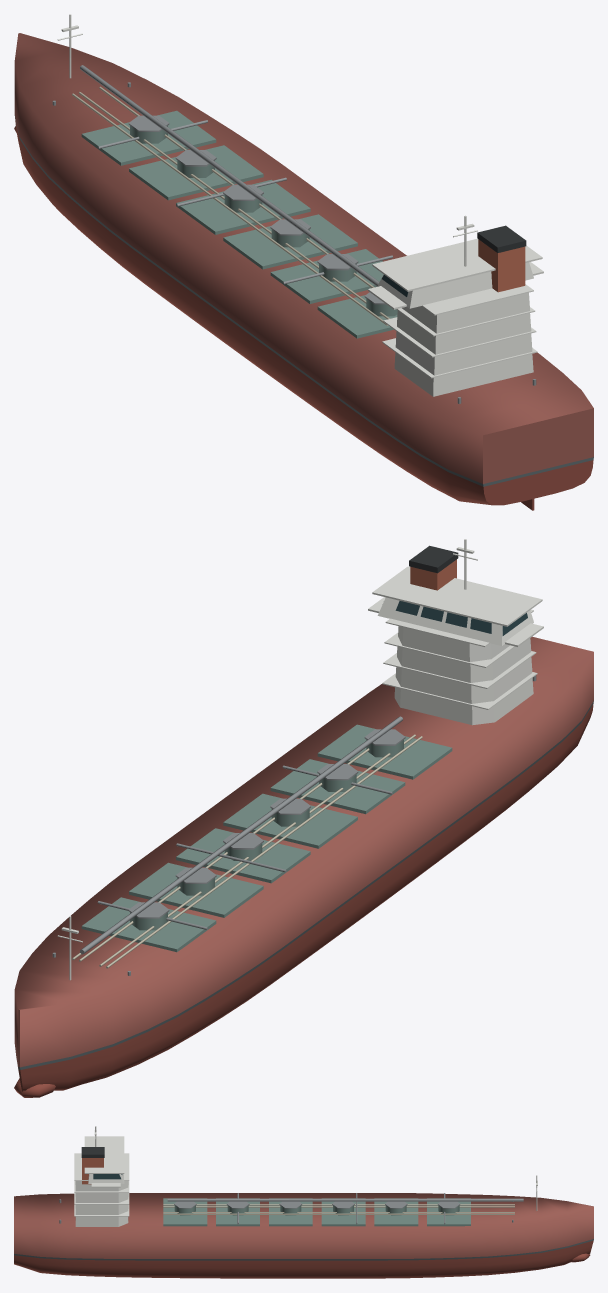
File: tanker-low.glb
3 views of the same model, one above another, from view 1: azimuth 30°, elevation 25°; view 2: azimuth 150°, elevation 25°; view 3: azimuth 270°, elevation 25° (orthographic). The views are drawn at different scales.
Visible parts, largest first — view 1: hull, white, green, bottom, metal, sand, stripe, red, black; view 2: hull, green, white, bottom, metal, sand, stripe, window, black, red; view 3: hull, bottom, green, white, metal, sand, stripe, red, black.
Part boxes in pixels (x1,y1,x2,y2): hull: (14,33,593,483); white: (57,14,543,396); green: (81,110,397,338); bottom: (14,118,593,510); metal: (52,65,536,403); sand: (72,86,389,325); stripe: (14,115,593,486); red: (478,239,525,292); black: (477,225,526,252); hull: (14,636,593,1067); green: (81,724,452,952); white: (57,539,543,980); bottom: (14,703,593,1097); metal: (52,675,536,975); sand: (72,734,422,968); stripe: (15,701,593,1069); window: (395,601,527,635); black: (409,545,458,573); red: (410,559,456,590); hull: (14,1193,593,1258); bottom: (14,1240,593,1278); green: (163,1198,470,1226); white: (74,1126,537,1226); metal: (59,1193,523,1224); sand: (163,1204,514,1214); stripe: (14,1239,593,1260); red: (82,1158,103,1184); black: (81,1147,104,1157).
Bounding box in the file's own units: 22 × 34.9 × 132.
